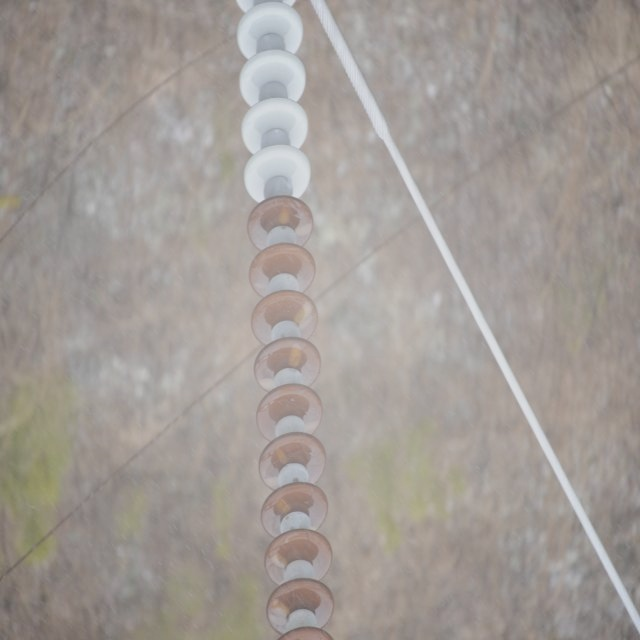insulator: (232, 1, 332, 640)
